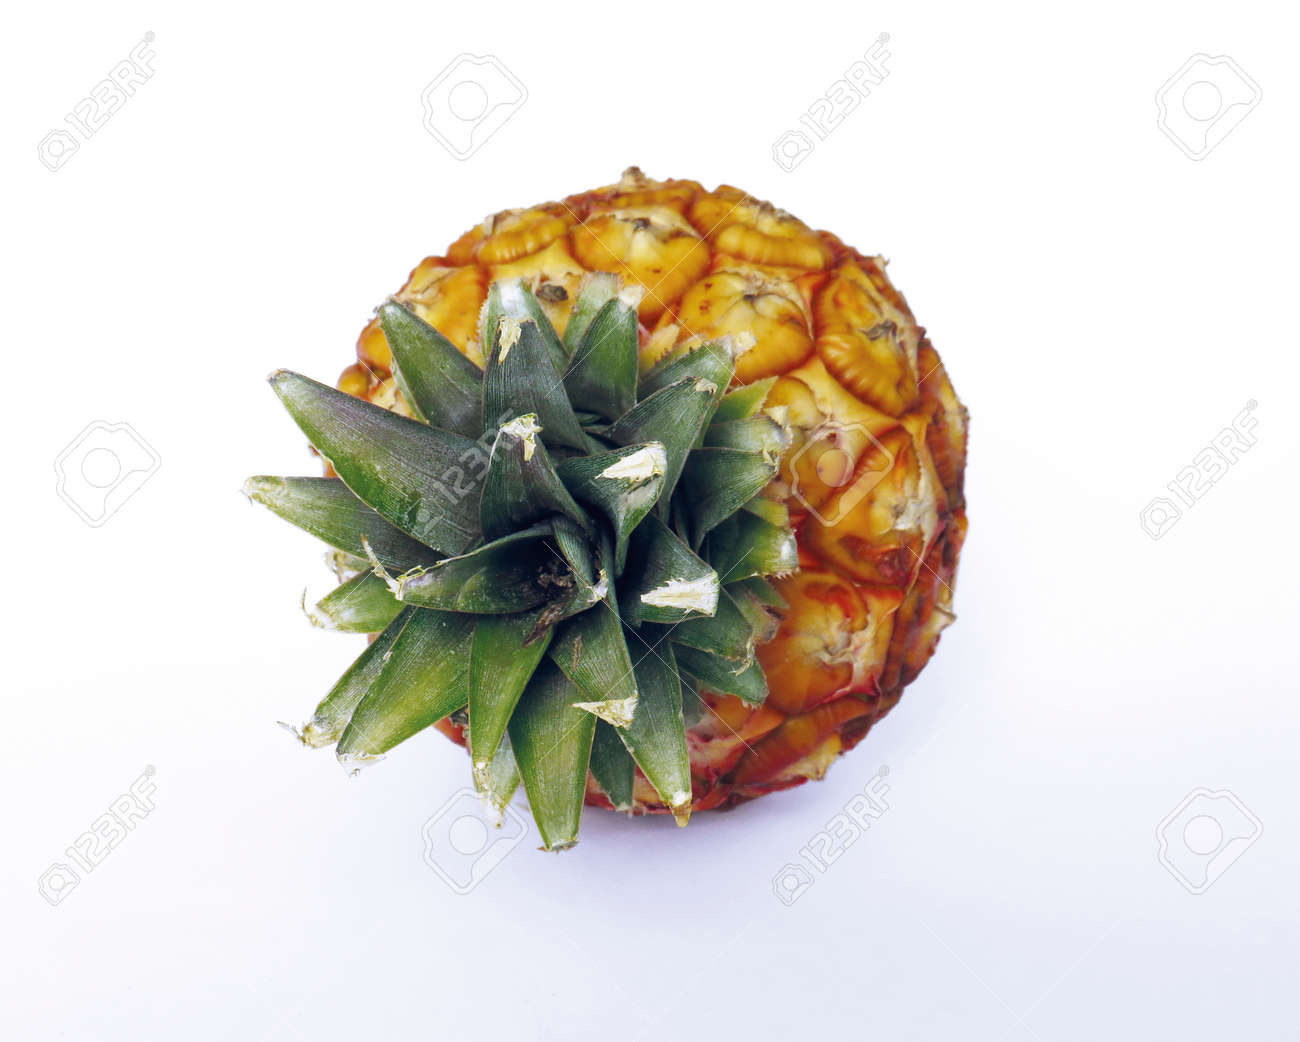pineapple: (242, 170, 1020, 858)
